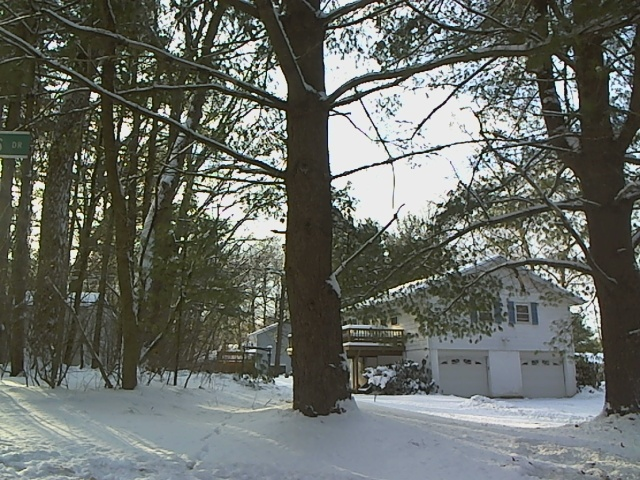Unploughed: (462, 389, 599, 415)
